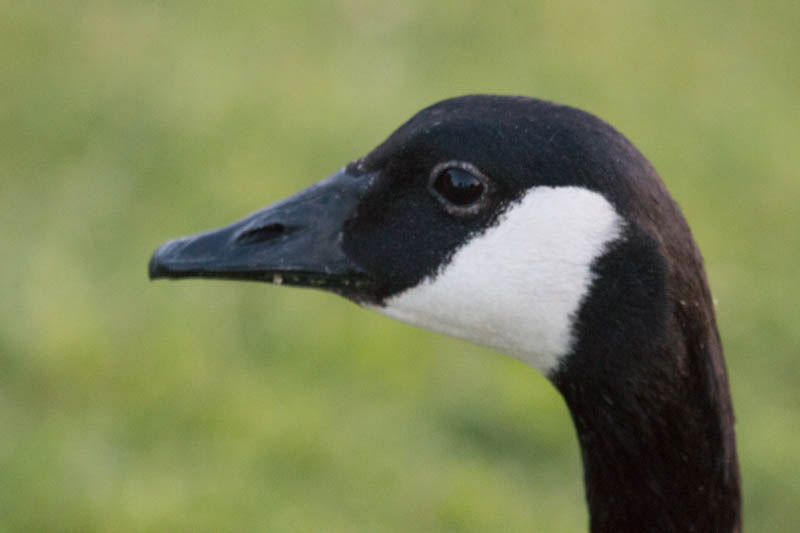goose-head: (147, 94, 725, 379)
